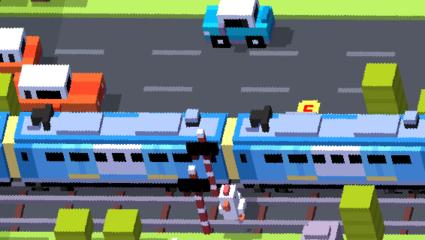hen: (217, 184, 246, 222)
obstacle: (0, 112, 425, 188), (12, 65, 106, 112), (201, 1, 275, 50), (340, 185, 387, 240), (361, 63, 409, 112), (0, 26, 43, 72), (54, 208, 94, 240), (103, 208, 141, 240), (0, 73, 21, 112), (302, 220, 341, 240), (416, 89, 425, 114)
